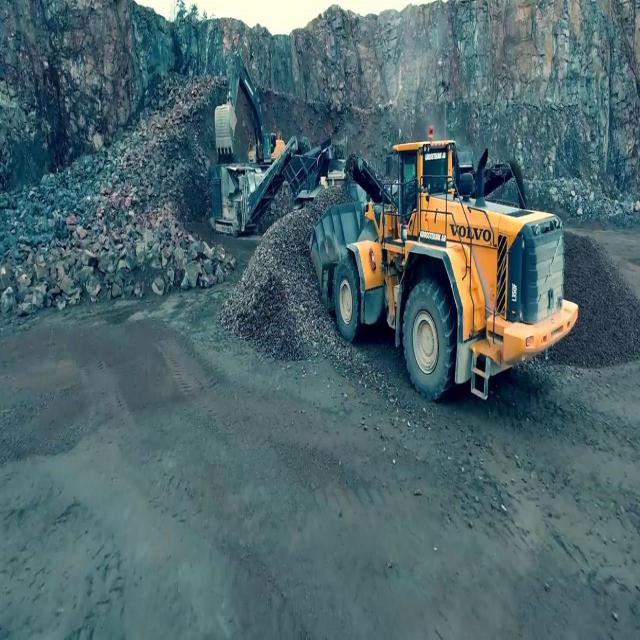Excavator: (213, 46, 285, 168)
Loader: (305, 121, 579, 413)
